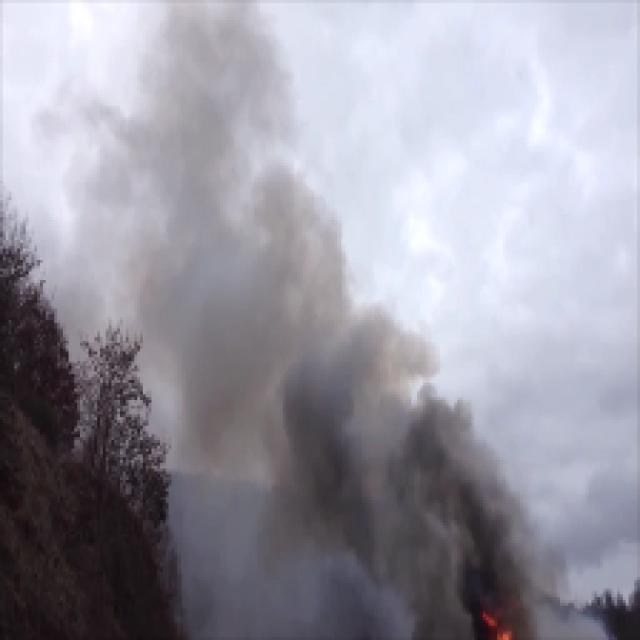smoke: (95, 44, 318, 442), (321, 293, 457, 624), (464, 443, 534, 591)
